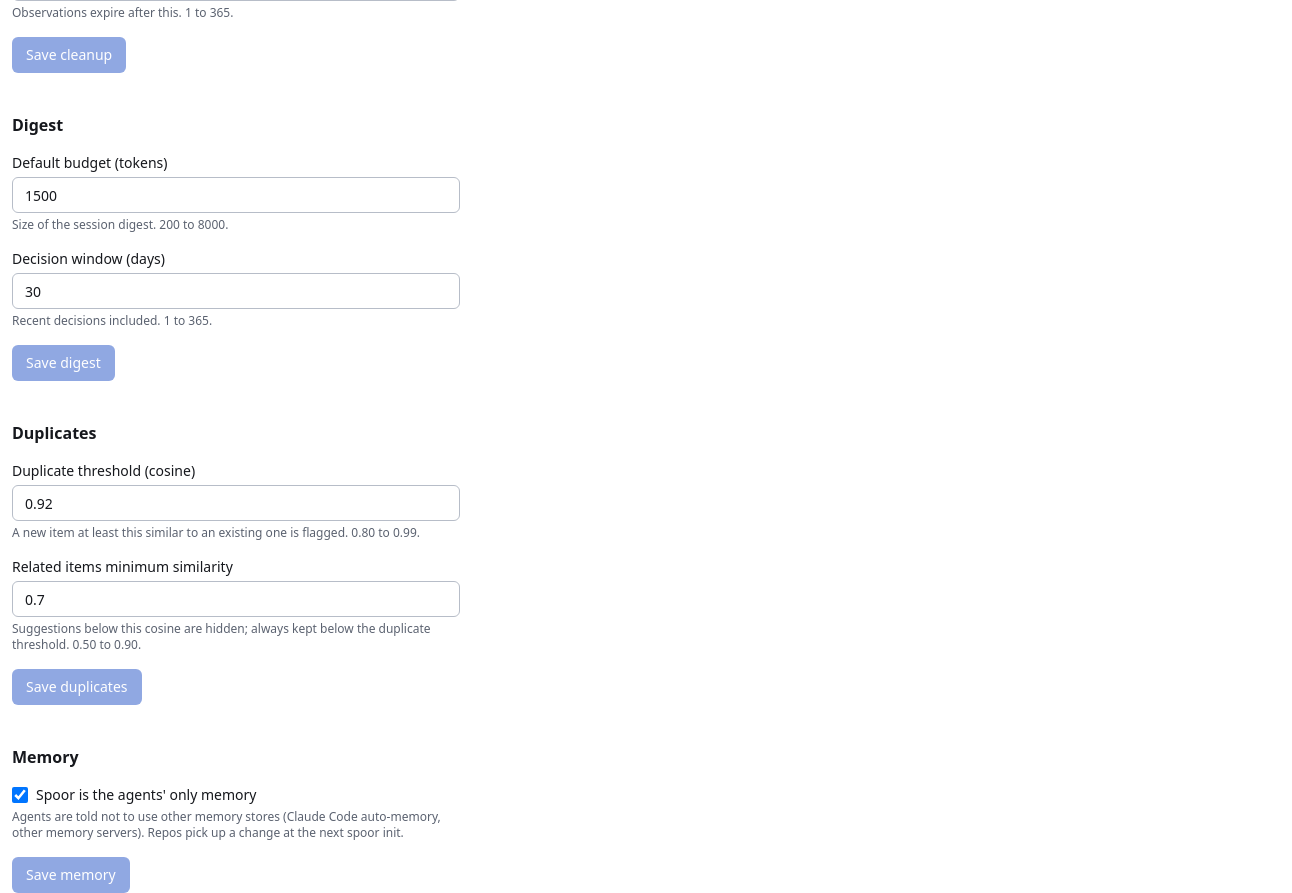
Test: SettingsForm › saves the memory switch and sends only that setting
(page scrolled)
Expected: the button "Save memory" is disabled, [12, 857, 130, 892]
Click the checkbox labelled "Spoor is the agents' only memory" at (20, 795), box [12, 787, 28, 803]
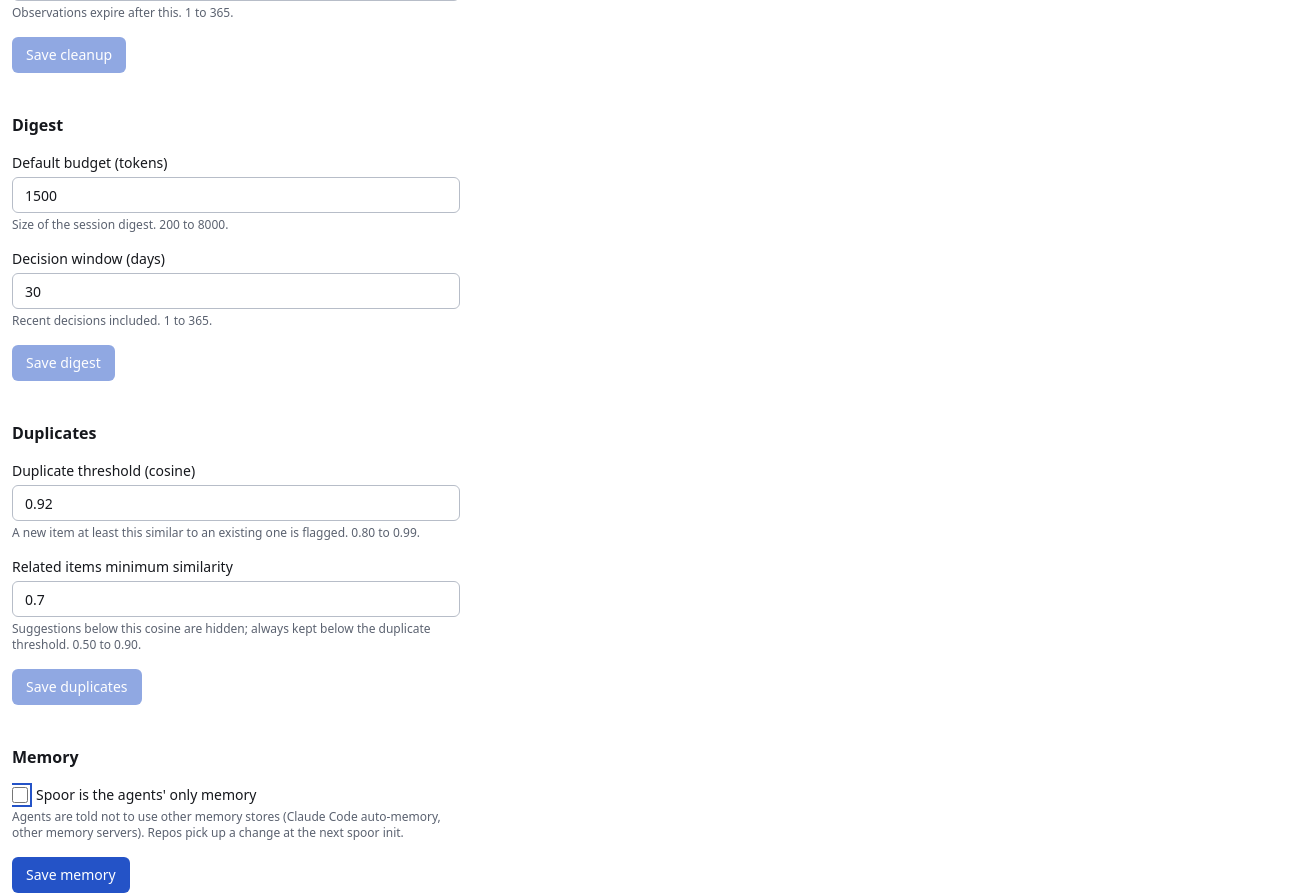
Click the button "Save memory" at (71, 875), box [12, 857, 130, 892]
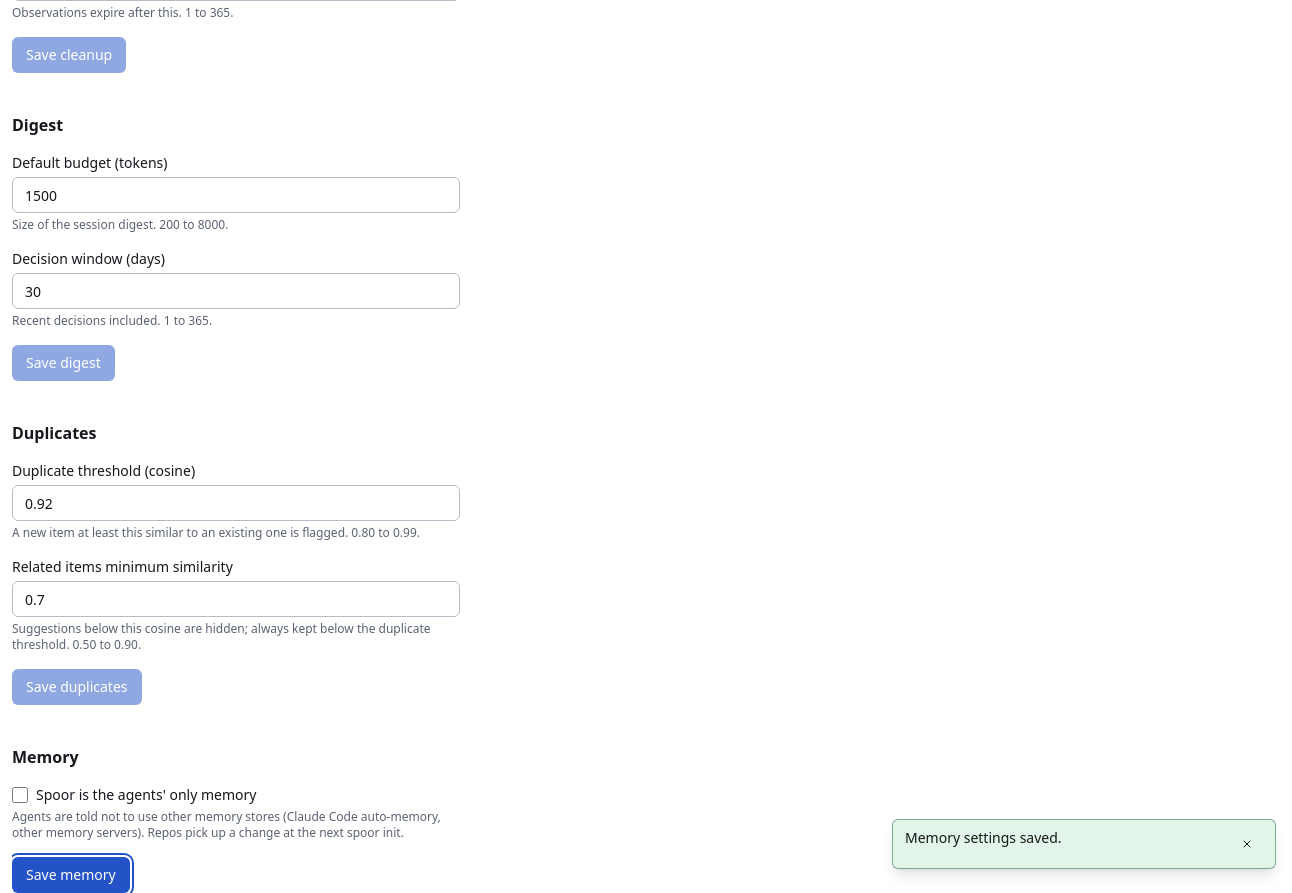
Result: the text "Memory settings saved." is shown at [905, 828, 1062, 847]
